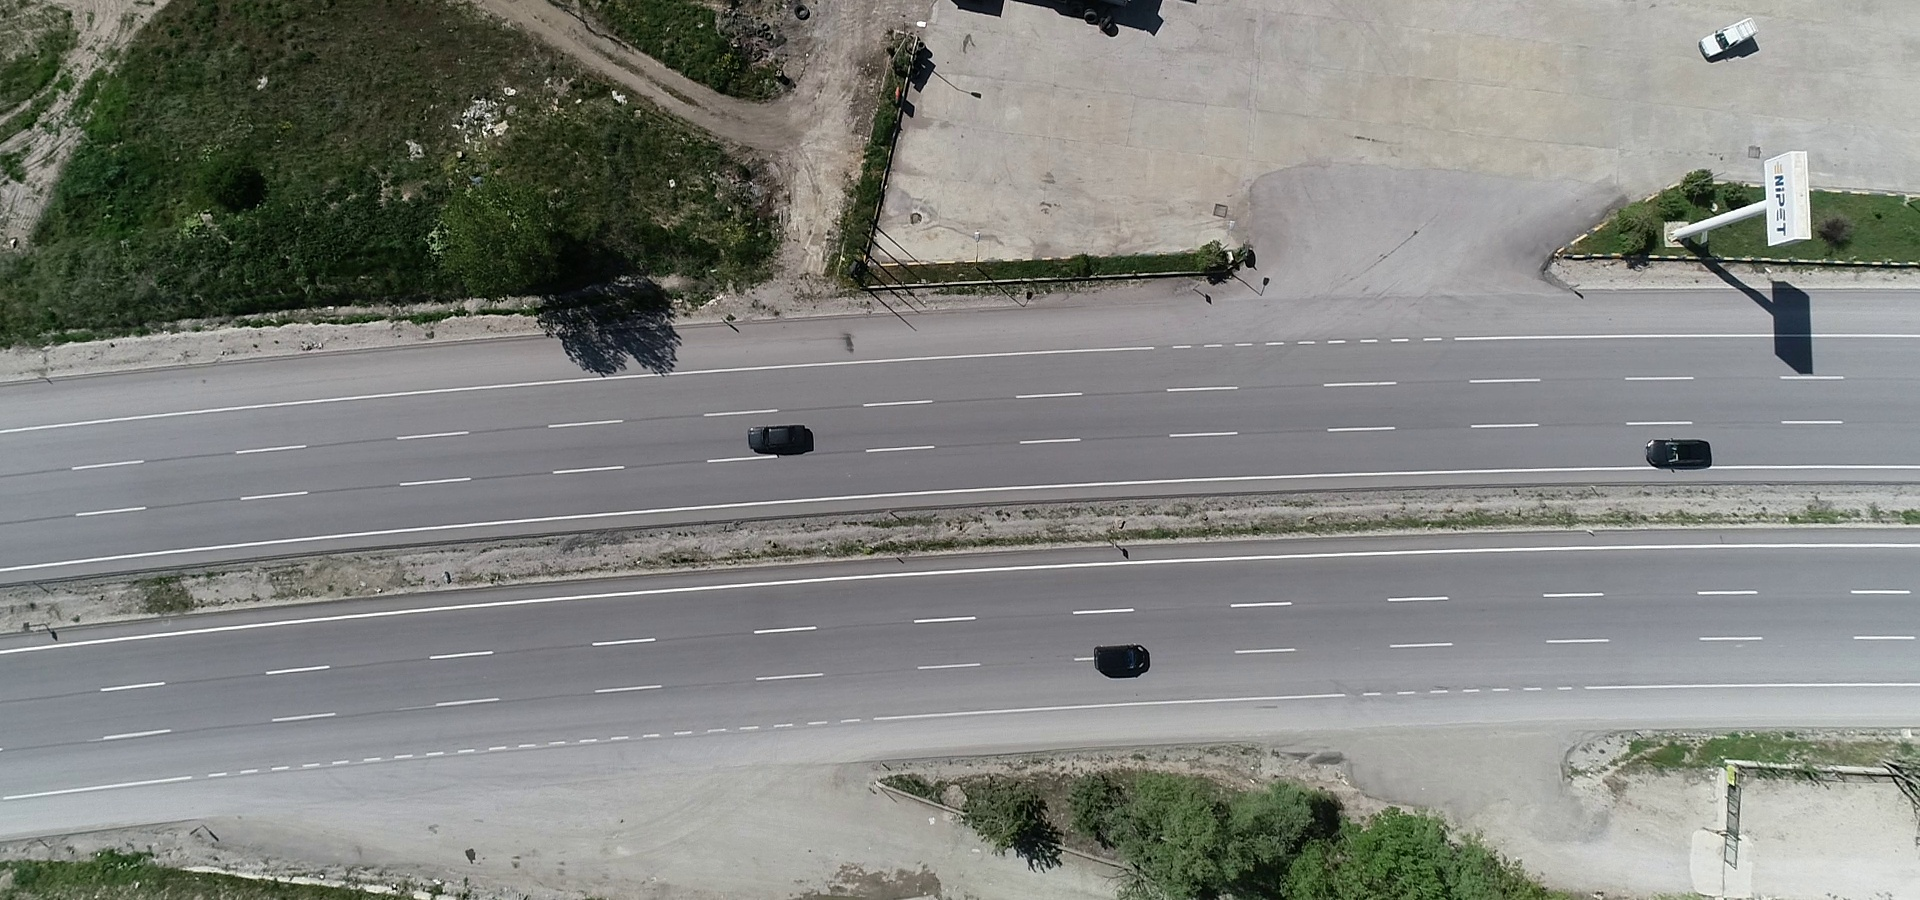arac: (741, 415, 825, 460), (1700, 20, 1769, 65), (1091, 638, 1160, 681), (1642, 440, 1717, 469)
